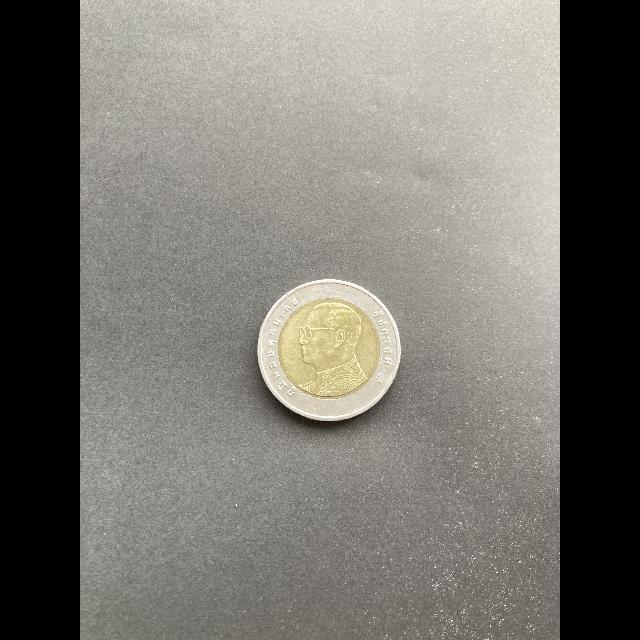10 Bath: (253, 276, 407, 433)
